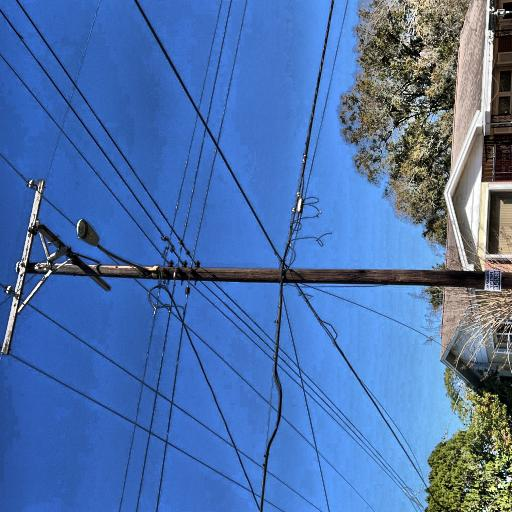insulator: (43, 104, 52, 116), (189, 143, 198, 153), (93, 118, 101, 128)
pole: (90, 130, 128, 512)
street light: (110, 198, 161, 292)
